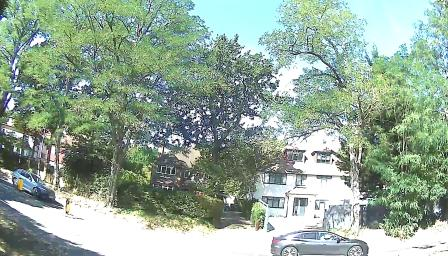Cars: (275, 234, 365, 254), (16, 168, 59, 204)
